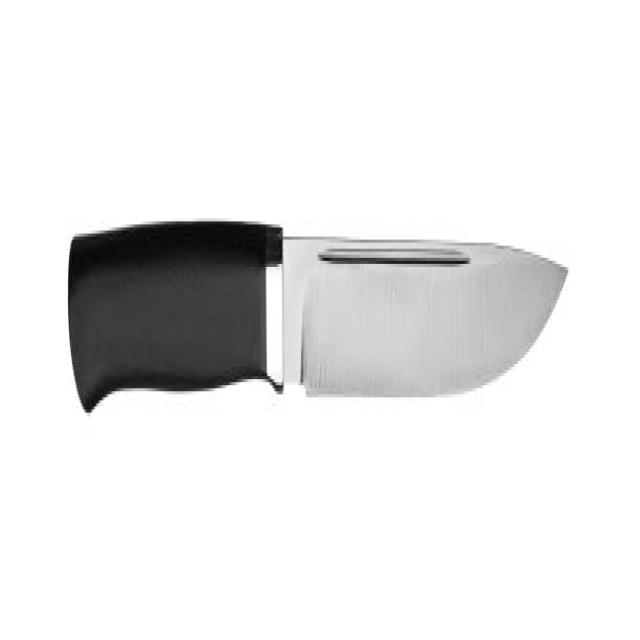knife: (67, 218, 571, 425)
